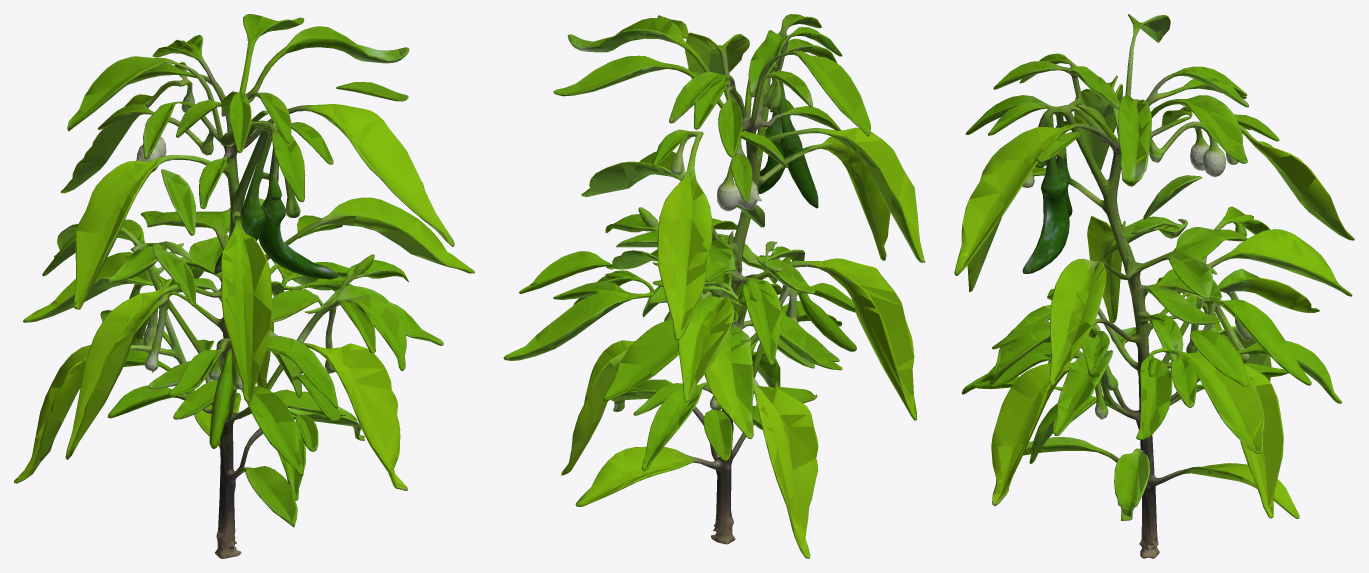
Rendered from arbolfrutomin.glb.
The picture shows the model from 3 angles, left to right: view 1: azimuth 30°, elevation 25°; view 2: azimuth 150°, elevation 25°; view 3: azimuth 270°, elevation 25°; orthographic projection. The views are drawn at different scales.
Visible parts, largest first — view 1: node_0.001, node_0; view 2: node_0.001, node_0; view 3: node_0.001, node_0.
Part boxes in pixels (bbox=[...]): node_0.001: bbox=[14, 14, 474, 558]; node_0: bbox=[14, 14, 474, 558]; node_0.001: bbox=[503, 14, 925, 558]; node_0: bbox=[504, 14, 924, 558]; node_0.001: bbox=[954, 14, 1354, 558]; node_0: bbox=[954, 15, 1354, 558].
Size of the model in its own units: 0.8479 by 1.11 by 0.8116.
Materials: 1 (1 with a texture image).
